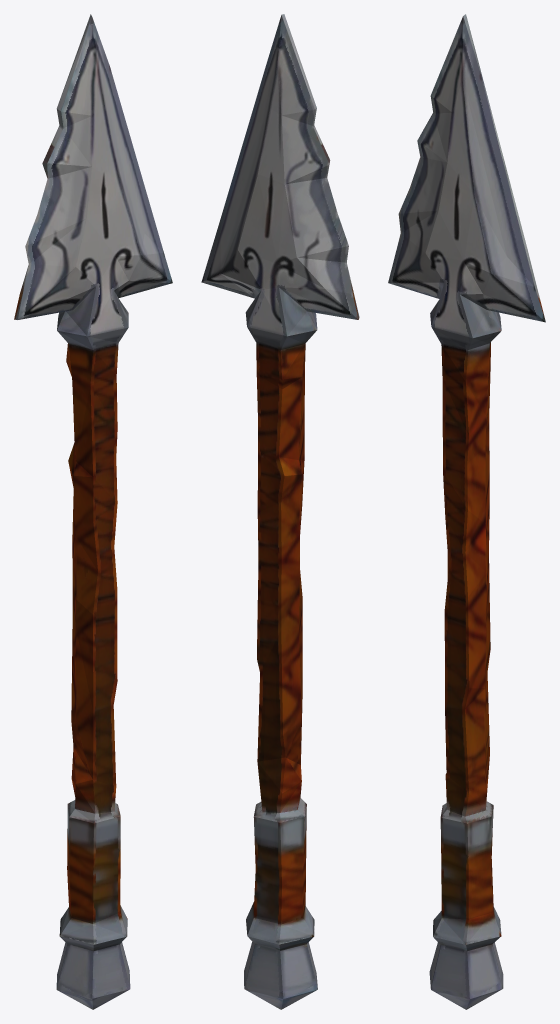
File: spear_weapon.glb
3 renders of one model, left to right at view 1: azimuth 30°, elevation 25°; view 2: azimuth 150°, elevation 25°; view 3: azimuth 330°, elevation 25°, orthographic.
Parts seen in each view (by area): view 1: TexturedMesh_.obj; view 2: TexturedMesh_.obj; view 3: TexturedMesh_.obj.
Part boxes in pixels (<box>): TexturedMesh_.obj: <box>14,14,172,1009</box>; TexturedMesh_.obj: <box>201,14,359,1009</box>; TexturedMesh_.obj: <box>388,14,545,1009</box>.
Bounding box in the file's own units: 0.3286 × 1.98 × 0.1246.
1 material, 1 textured.
